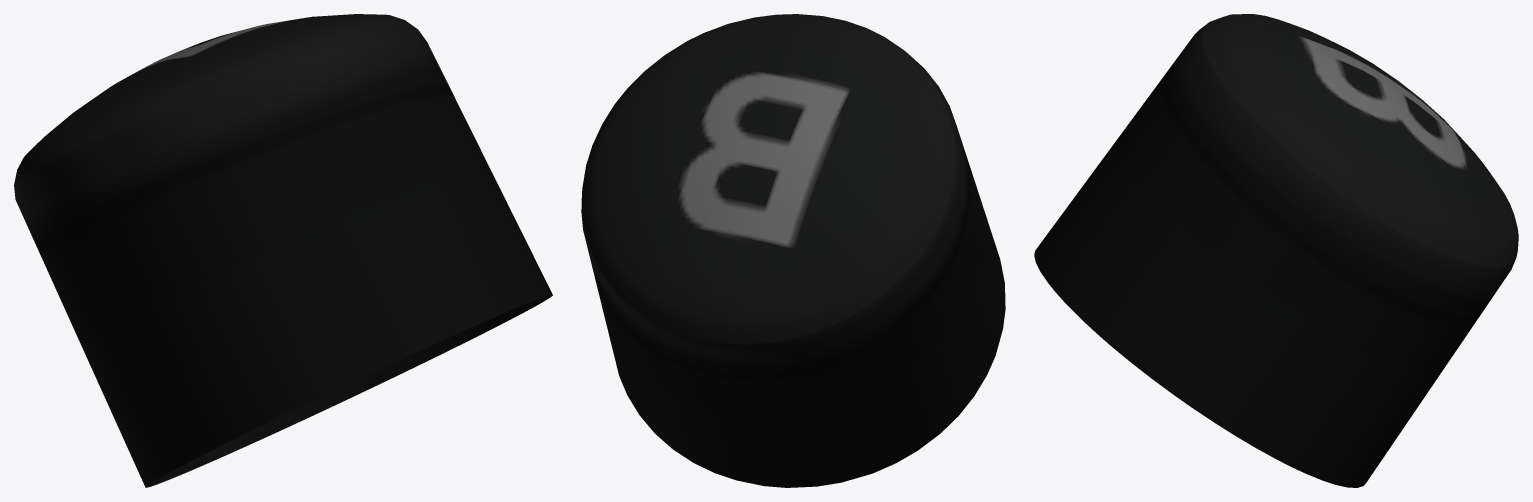
File: frame_controller_right_b_button.obj
The picture shows the model from 3 angles, left to right: view 1: azimuth 30°, elevation 25°; view 2: azimuth 150°, elevation 25°; view 3: azimuth 270°, elevation 25°; orthographic projection. The views are drawn at different scales.
Visible parts, largest first — view 1: frame_controller_right_b_button; view 2: frame_controller_right_b_button; view 3: frame_controller_right_b_button.
Boxes of the visible parts, x1,y1,x2,y2 form: frame_controller_right_b_button: (14, 14, 552, 487); frame_controller_right_b_button: (581, 14, 1005, 487); frame_controller_right_b_button: (1034, 14, 1518, 487).
Size of the model in its own units: 0.01 by 0.0106 by 0.011.
1 material, 1 textured.
